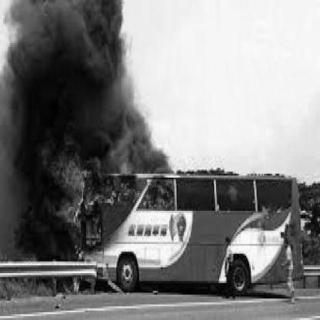Smoke: (0, 0, 155, 152), (2, 153, 34, 245)
